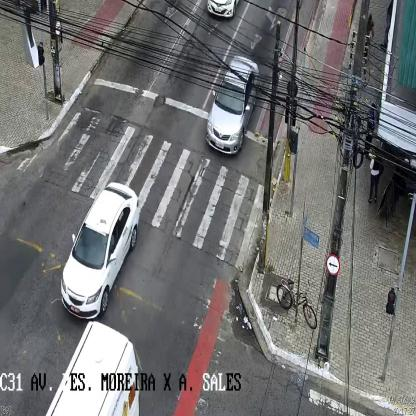bicycle: (276, 278, 316, 331)
car: (61, 183, 140, 318), (207, 54, 258, 155), (208, 0, 242, 20)
